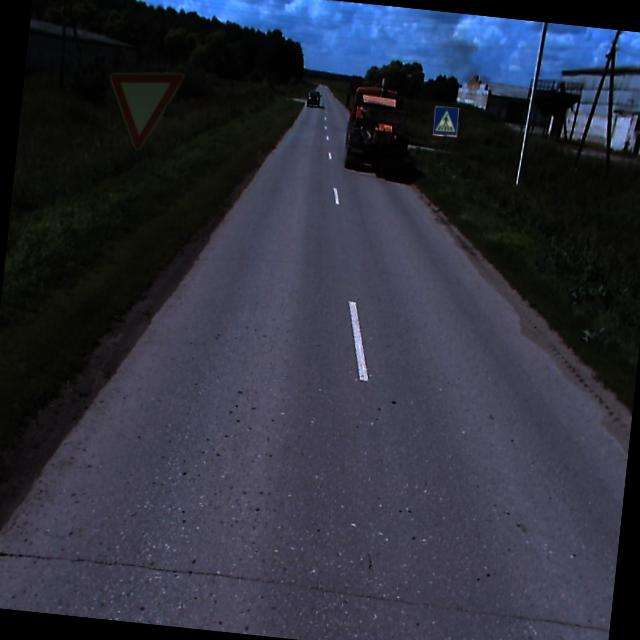road: (0, 84, 627, 640)
